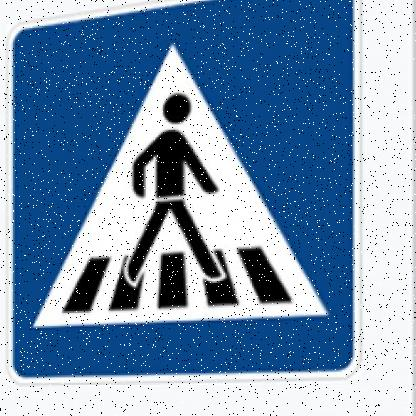Pedestrian Crossing: (1, 1, 367, 389)
